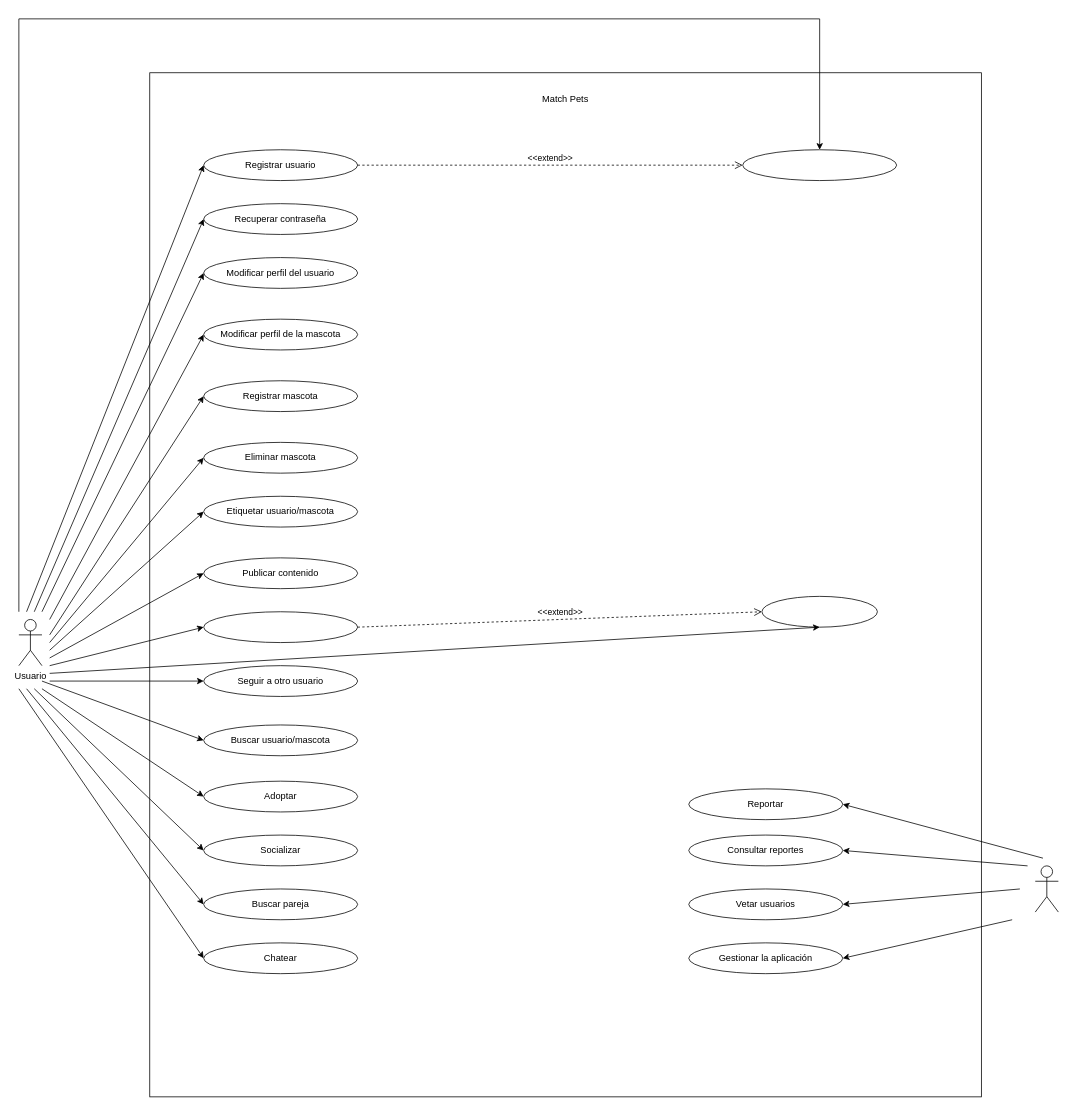
Image size: 1089x1110. Some labels were removed from this diagram. Here are the shapes that lost their labels. From the top down, the centre of each, then its label:
At point (819, 165): "Iniciar sesión".
At point (280, 627): "Responder comentario".
At point (819, 611): "Comentar".
At point (1046, 888): "Administrador".
